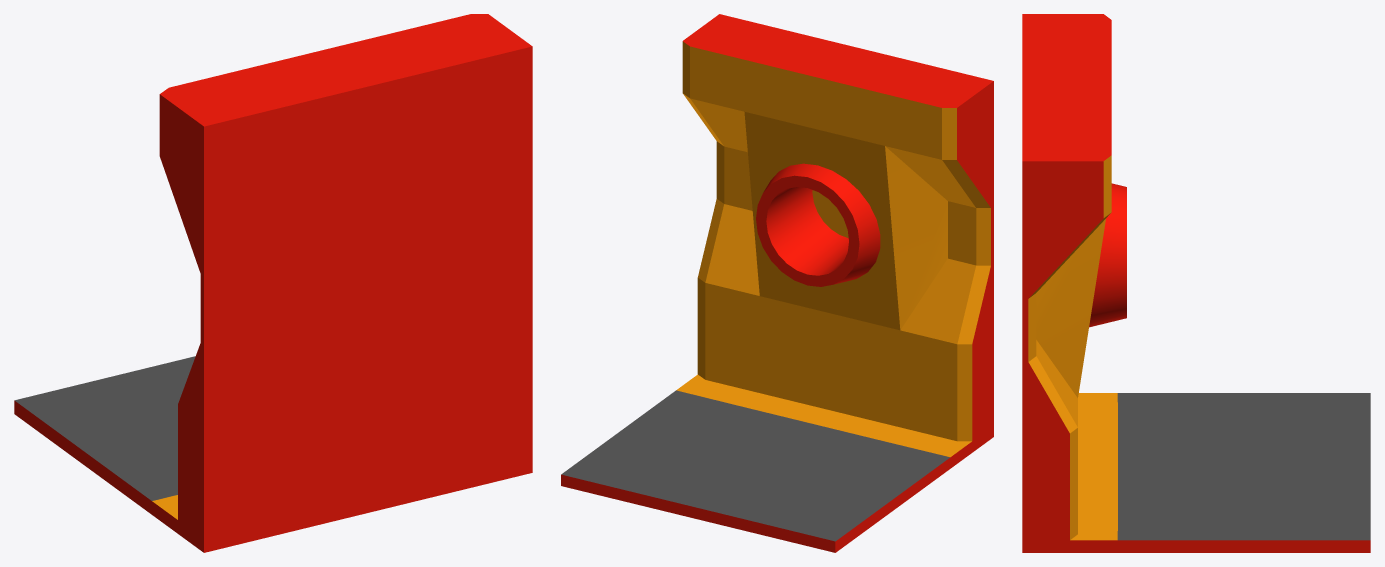
3 renders of one model, left to right at view 1: azimuth 30°, elevation 25°; view 2: azimuth 150°, elevation 25°; view 3: azimuth 270°, elevation 25°, orthographic. The views are drawn at different scales.
Parts seen in each view (by area): view 1: S028; view 2: S028; view 3: S028.
Boxes of the visible parts, <box> form: S028: <box>14,14,532,552</box>; S028: <box>561,14,993,552</box>; S028: <box>1022,14,1370,552</box>.
Size of the model in its own units: 200 by 248 by 200.
